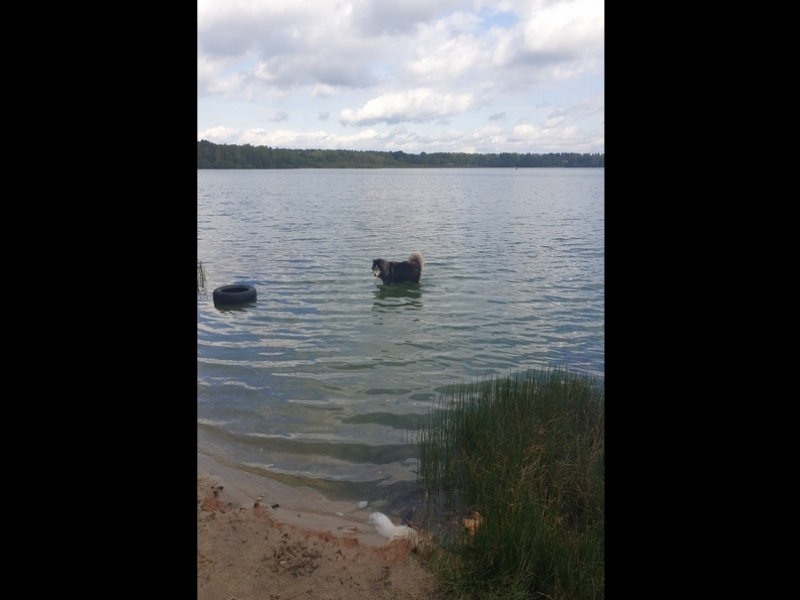dog: (369, 251, 433, 289)
